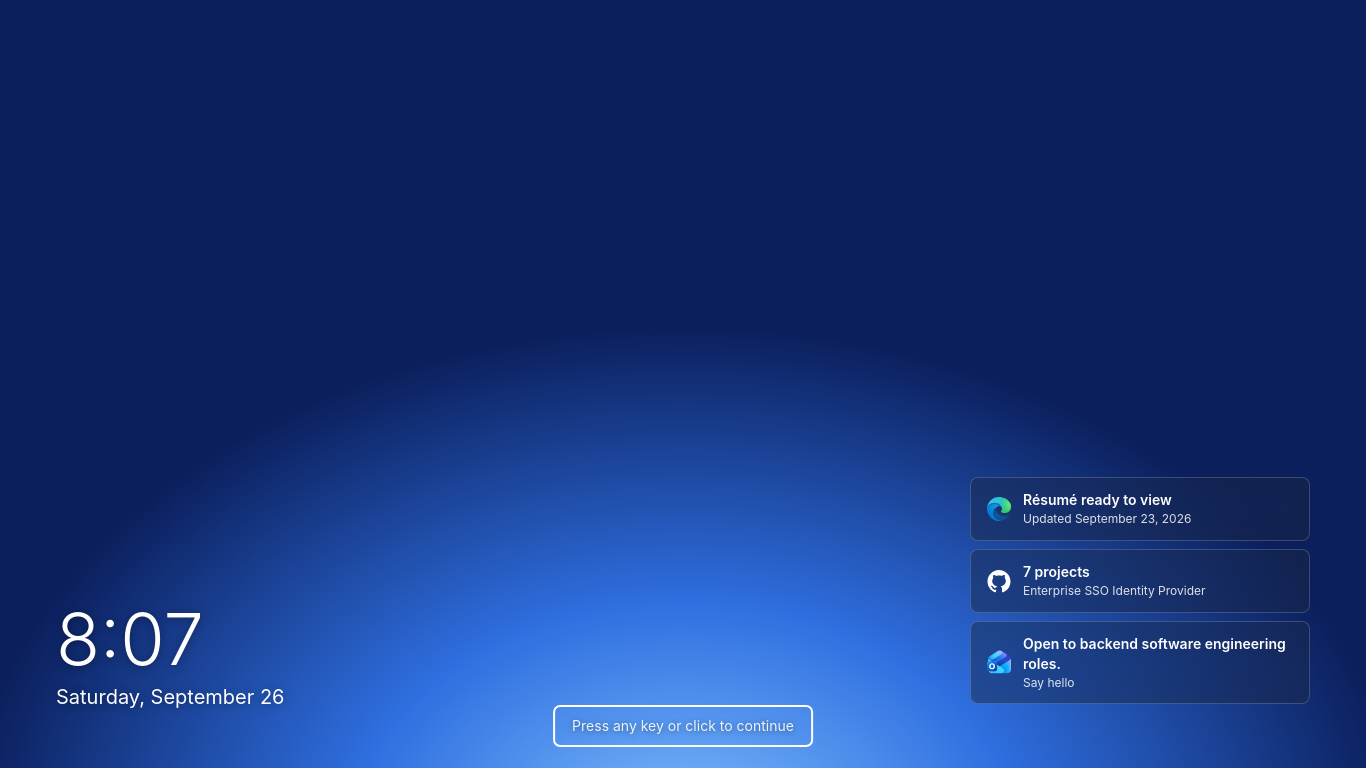
it: WIN-LOCK-01 · WIN-LOCK-03 the lock screen › first chooser entry: cards from data; Continue → sign-in card without any credential field → desktop
The image size is (1366, 768).
Expected: the link "Résumé ready to view Updated September 23, 2026" is shown, [970,477,1310,541]
Click the button "Press any key or click to continue" at (683,726), box [556,708,810,744]
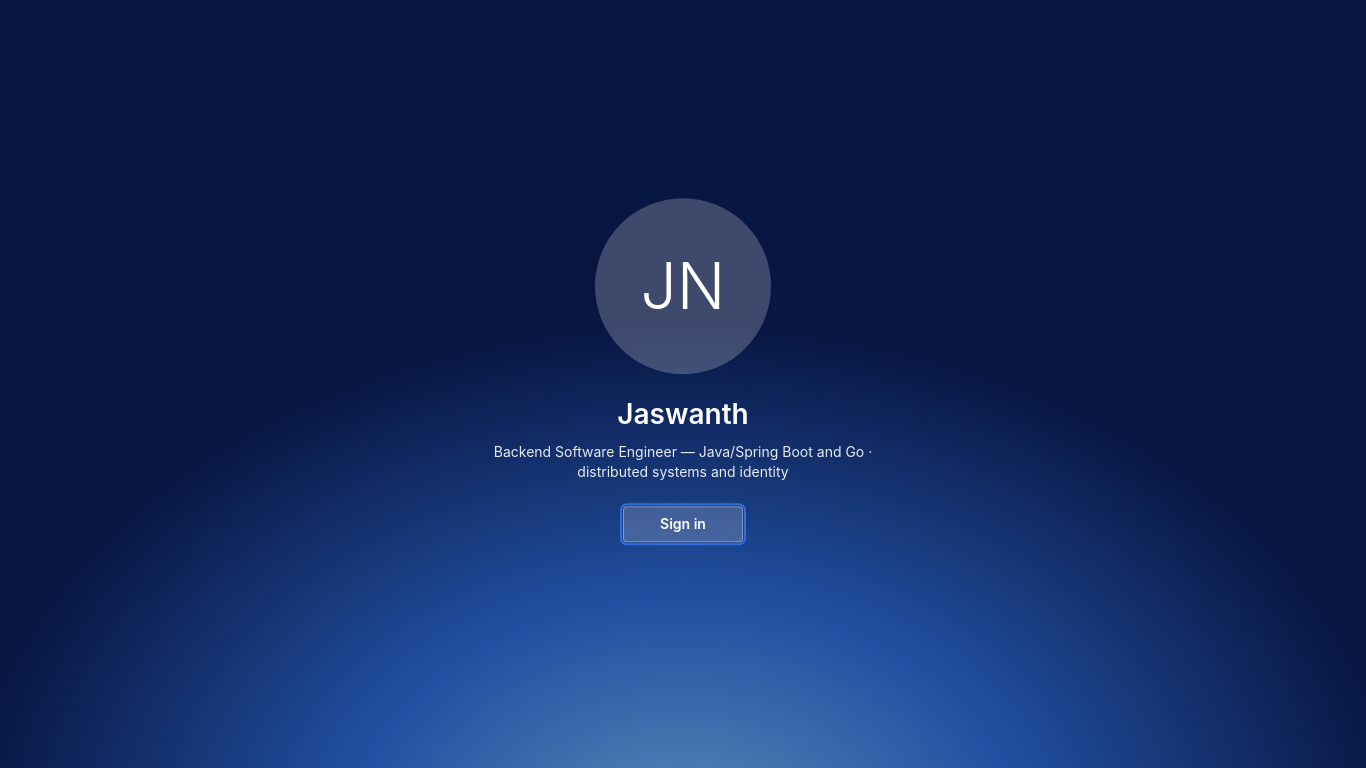
Click the button "Sign in" at (683,524), box [623,506,743,542]
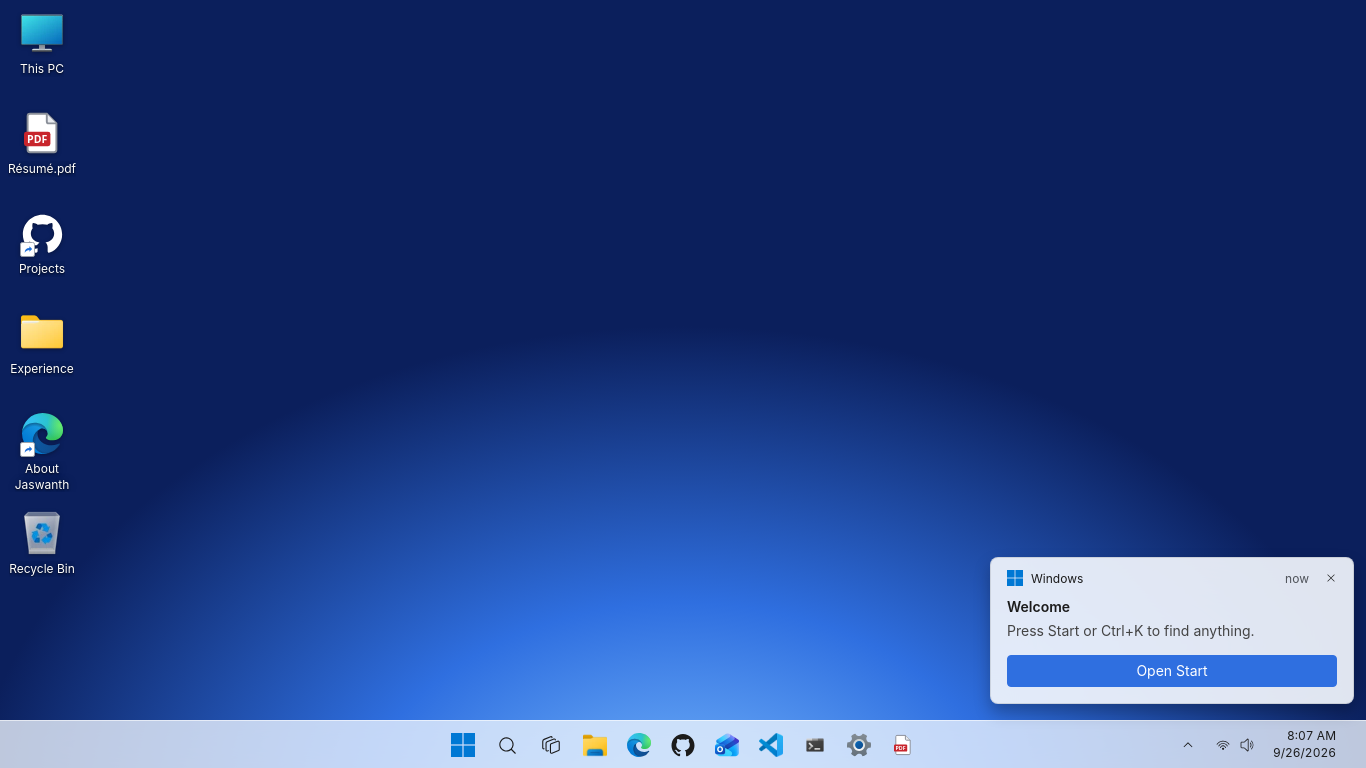
Now the navigation bar named "Taskbar" is shown, box [0,720,1365,767]
